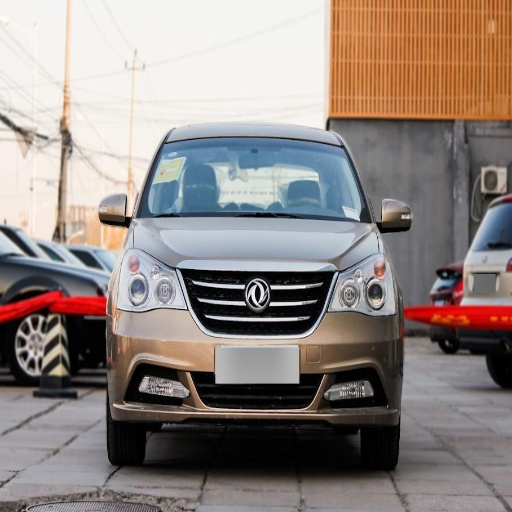front_bumper: (107, 261, 400, 427)
front_right_light: (116, 249, 184, 310)
hood: (133, 217, 378, 270)
